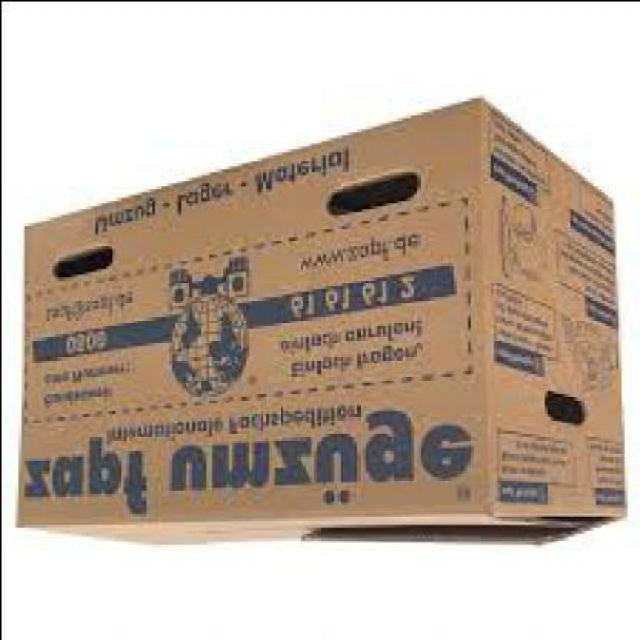box: (11, 100, 620, 549)
